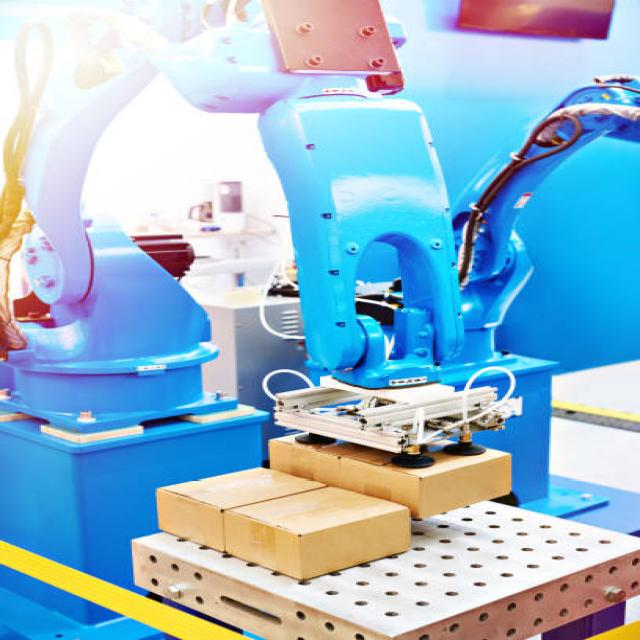Robotic-arm: (0, 0, 541, 427)
